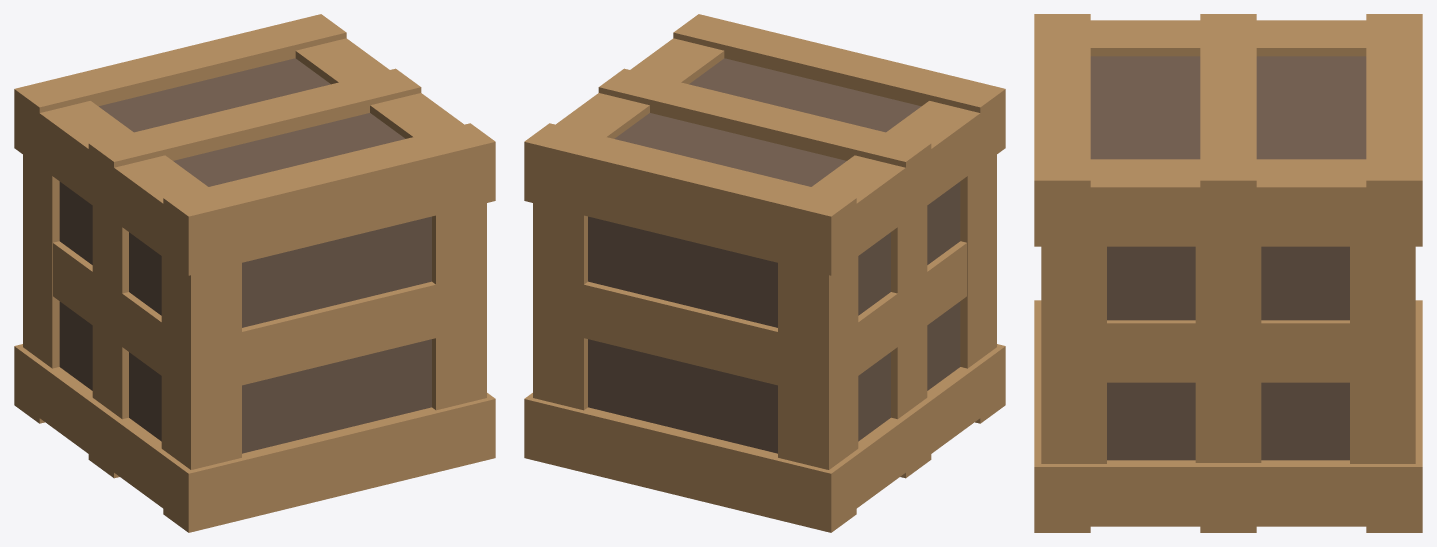
3 renders of one model, left to right at view 1: azimuth 30°, elevation 25°; view 2: azimuth 150°, elevation 25°; view 3: azimuth 270°, elevation 25°, orthographic. The views are drawn at different scales.
Visible parts, largest first — view 1: Box_6; view 2: Box_6; view 3: Box_6.
Part boxes in pixels (bbox=[...]): Box_6: bbox=[14, 14, 495, 532]; Box_6: bbox=[524, 14, 1005, 532]; Box_6: bbox=[1034, 14, 1422, 532].
Size of the model in its own units: 79.27 by 78.04 by 78.04.
